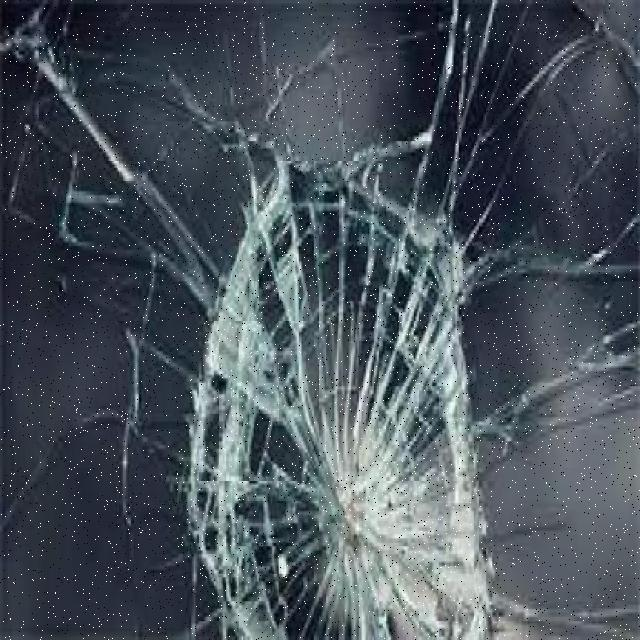damage: (181, 164, 482, 636)
